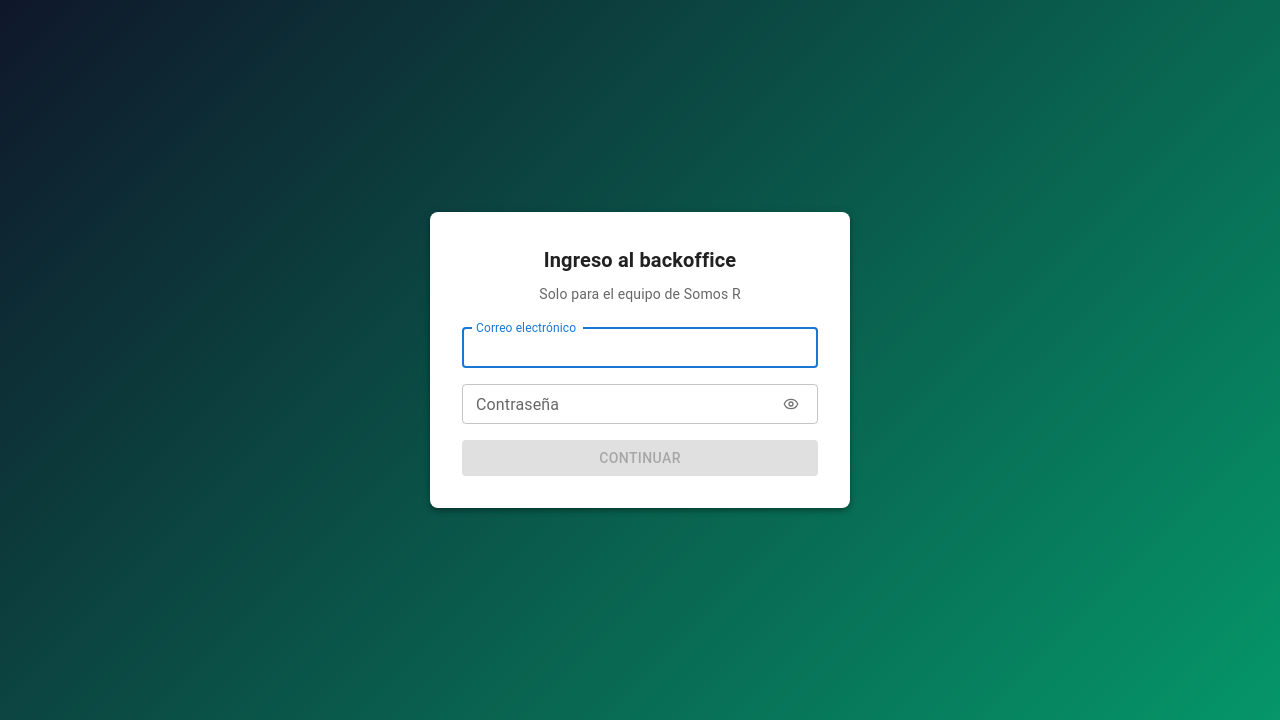
Test: the signed-in shell › shows the name and role of the account and lets it sign out
In the field labelled "Correo electrónico": (640, 348) [462,328,818,368], type "ana@somosr.co"
In the password field labelled "Contraseña": (616, 404) [462,384,770,424], type "CorrectHorse-9"
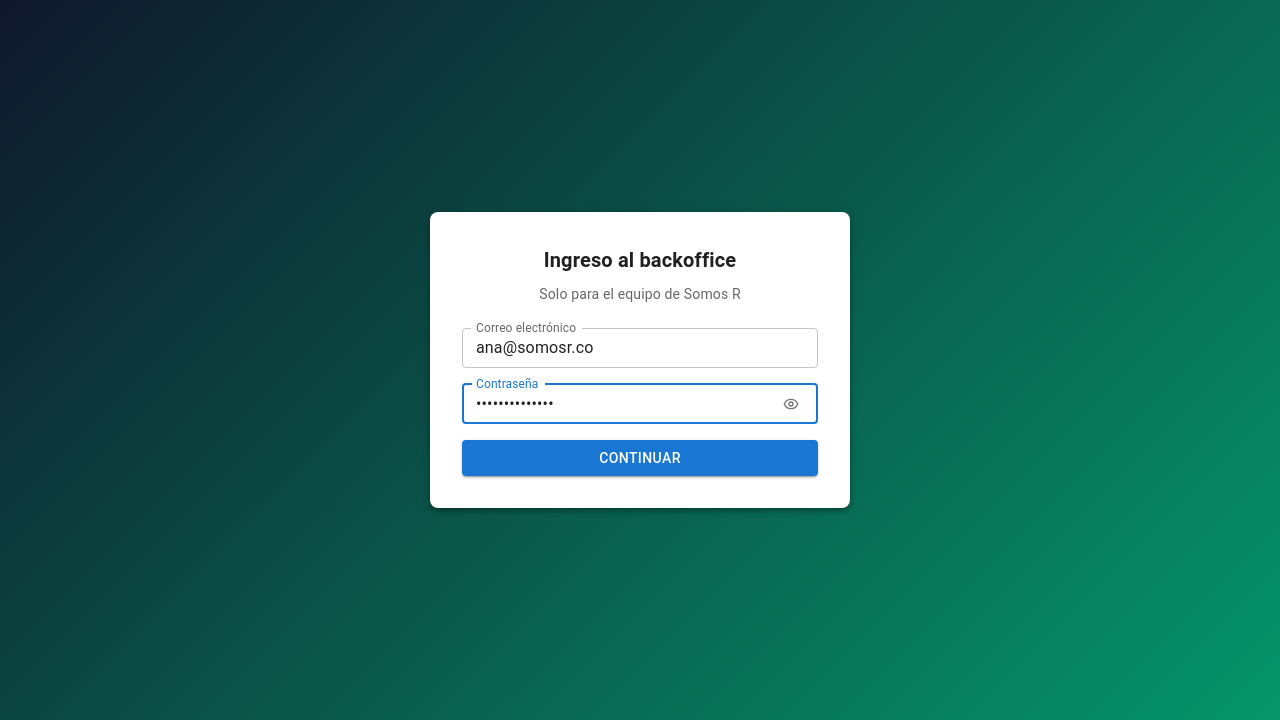
Click the button "Continuar": (640, 458) [462,440,818,476]
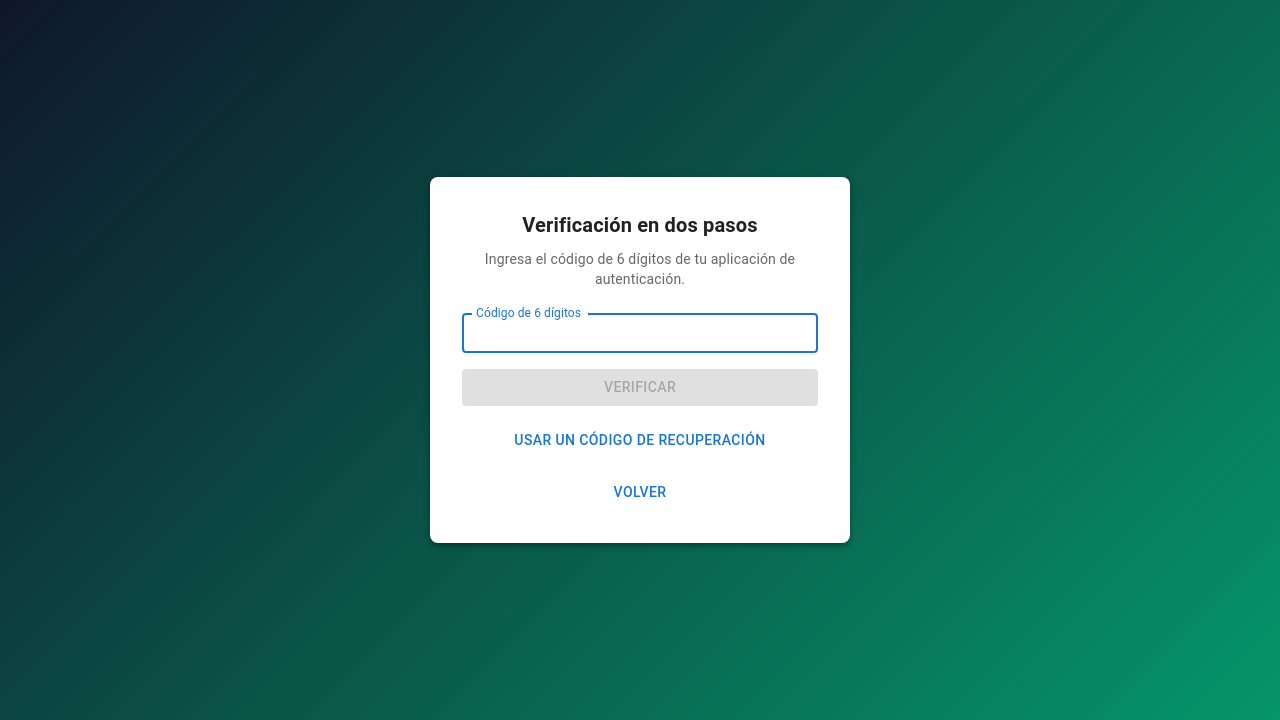
In the field labelled "Código de 6 dígitos": (640, 333) [462,313,818,353], type "123456"
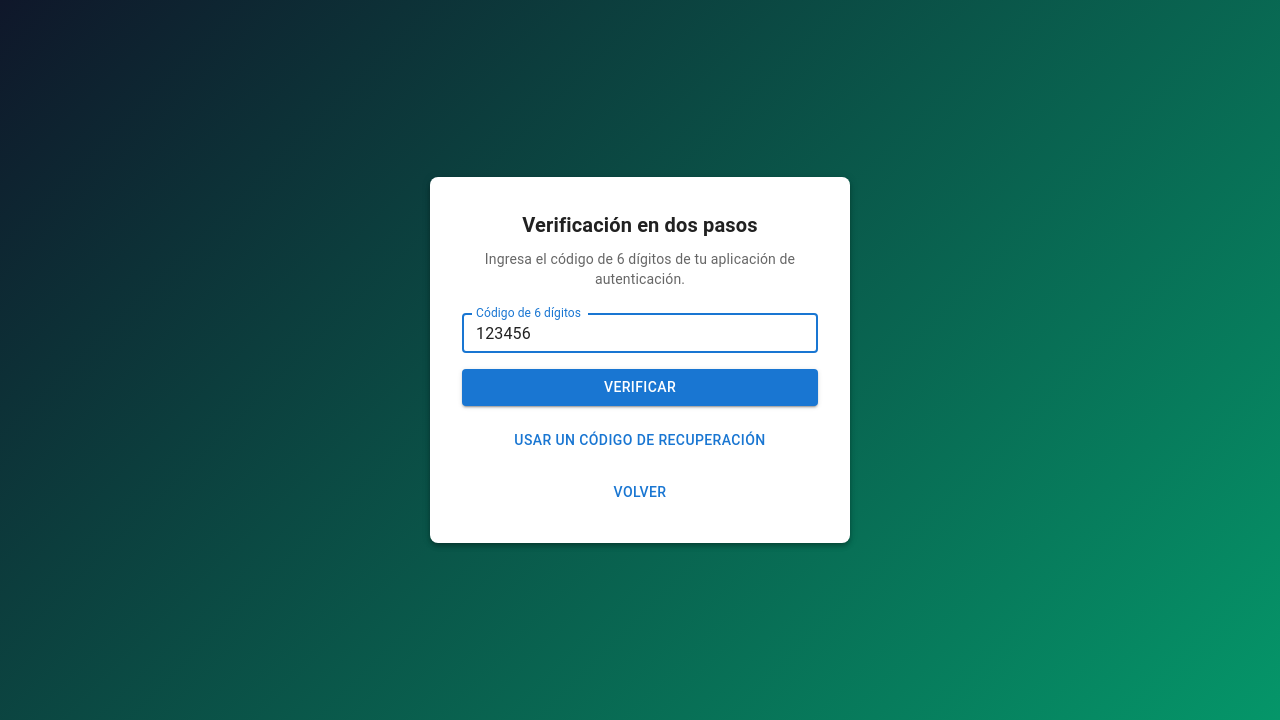
Click the button "Verificar": (640, 388) [462,369,818,406]
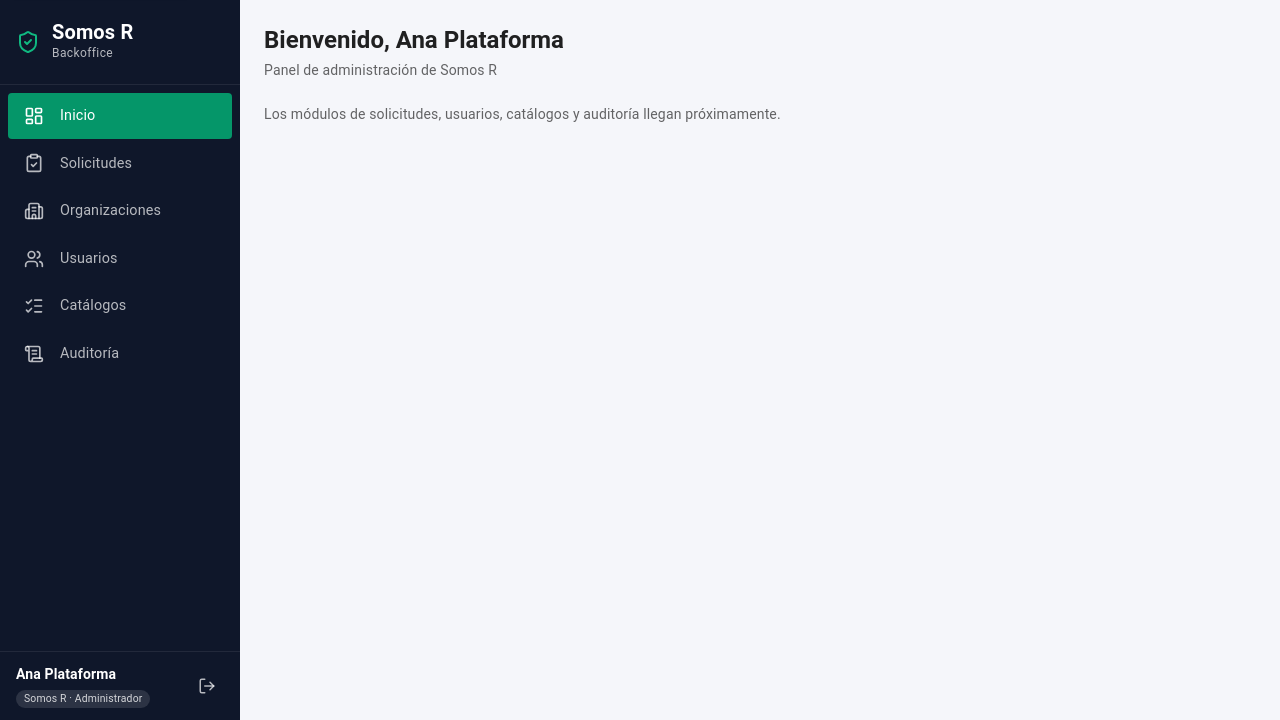
Check: the heading "Bienvenido, Ana Plataforma" is shown, box [264,26,564,54]
Check: the text "Somos R · Administrador" is shown, box [16,691,150,706]
Click the button named "Cerrar sesión": (207, 686) [190,669,224,703]
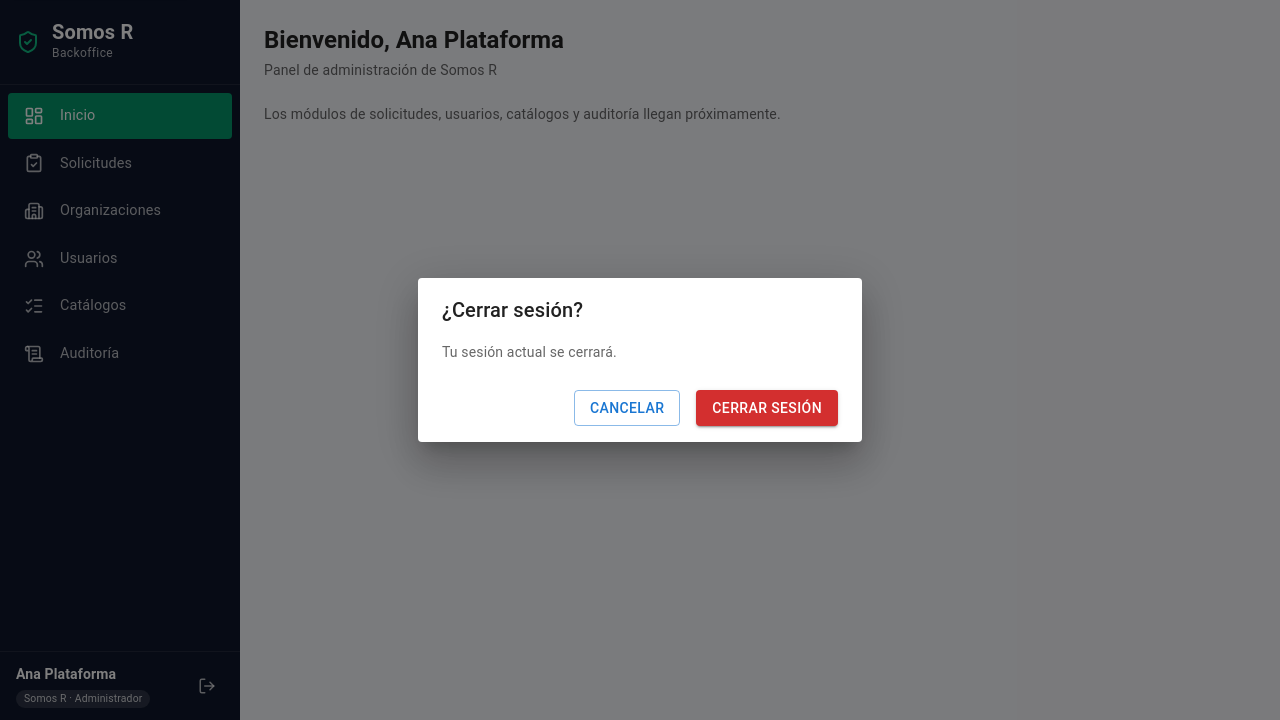
Click the button "Cerrar sesión": (767, 408) [696,390,838,426]
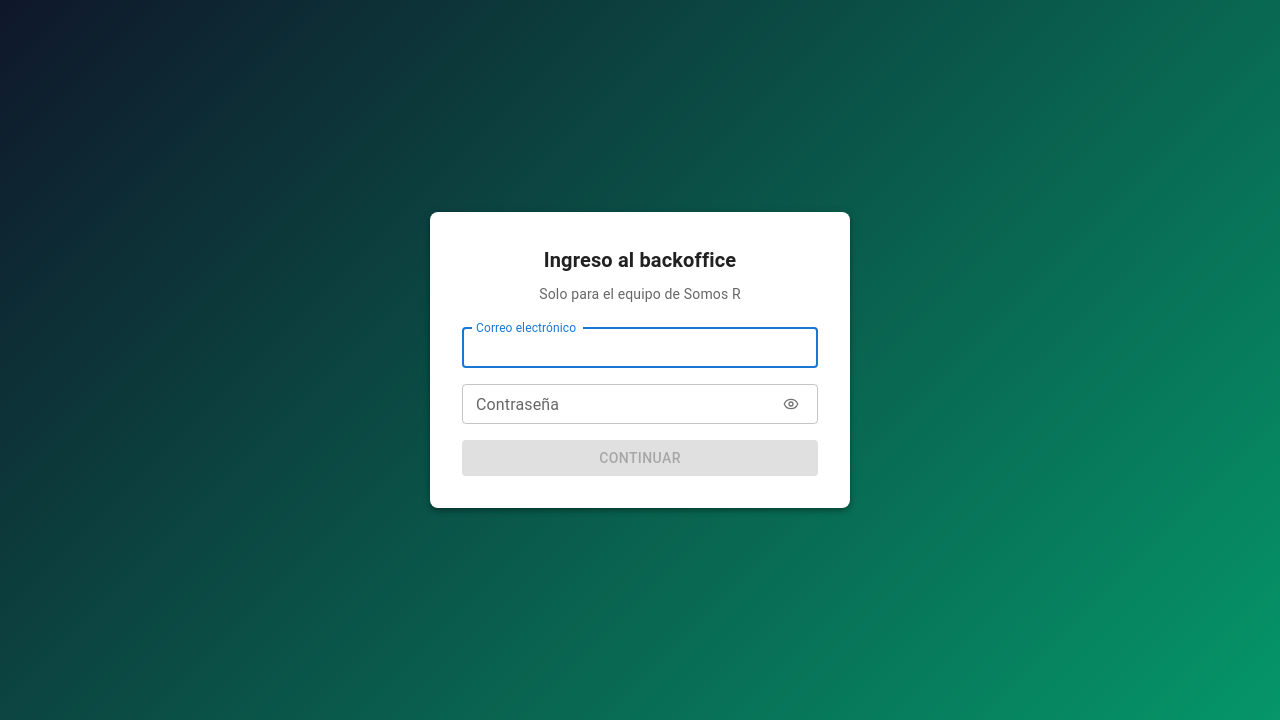
Check: the heading "Ingreso al backoffice" is shown, box [544,248,736,272]
